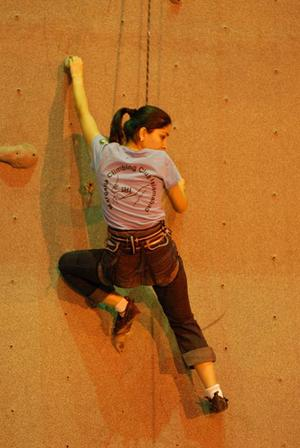person: (59, 56, 230, 416)
